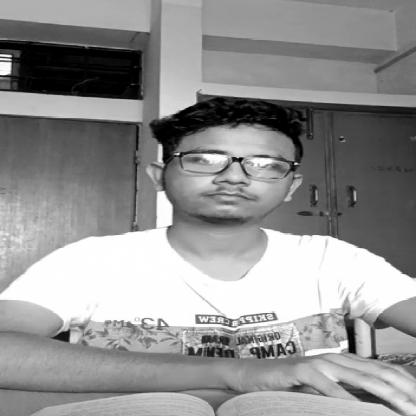Normal: (157, 113, 293, 226)
